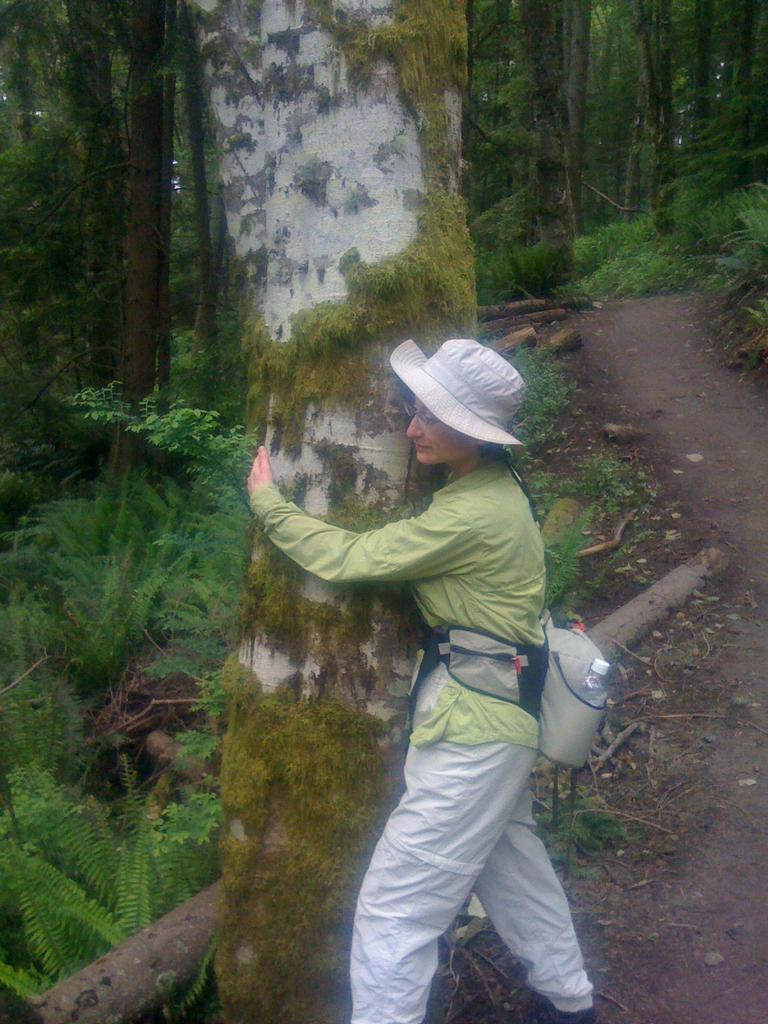Hat: (390, 332, 524, 454)
